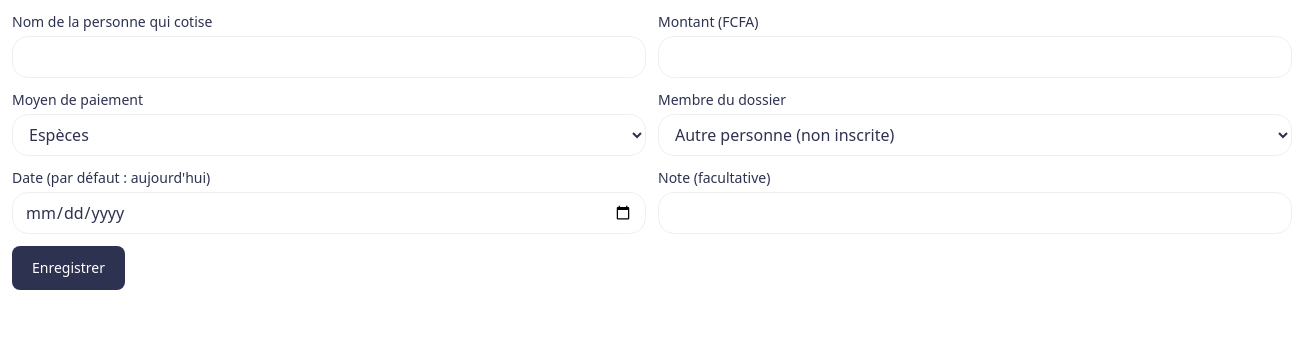
Scenario: EntryForm › shows a ledger-specific error in an alert
Click the button "Enregistrer": coordinates (68, 268) [12,246,125,290]
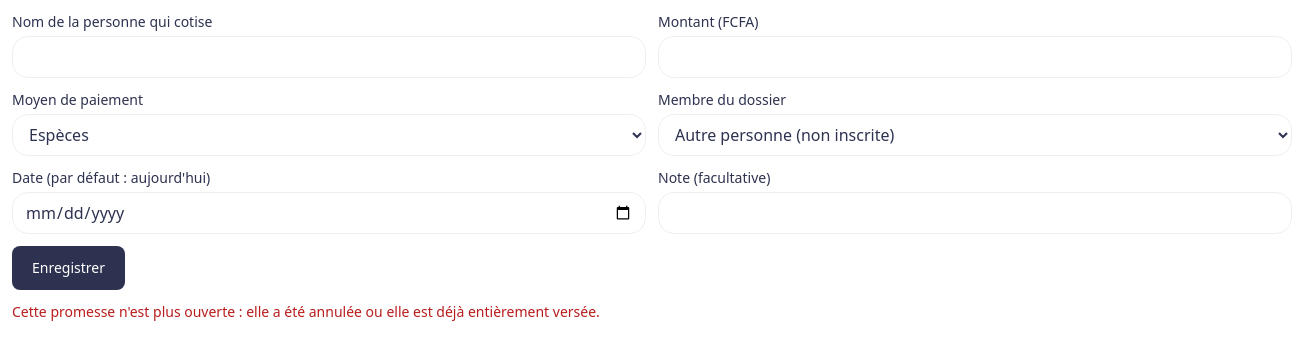
Now the message shows "Cette promesse n'est plus ouverte : elle a été annulée ou elle est déjà entièrement versée.", box [12,302,600,321]
